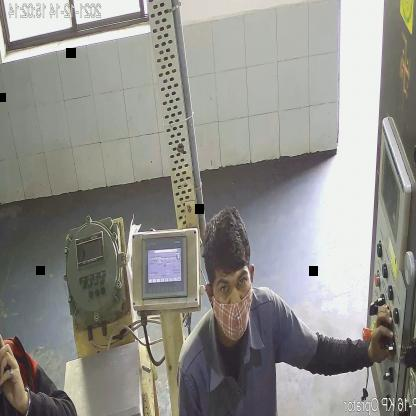no_goggles: (214, 270, 250, 304)
